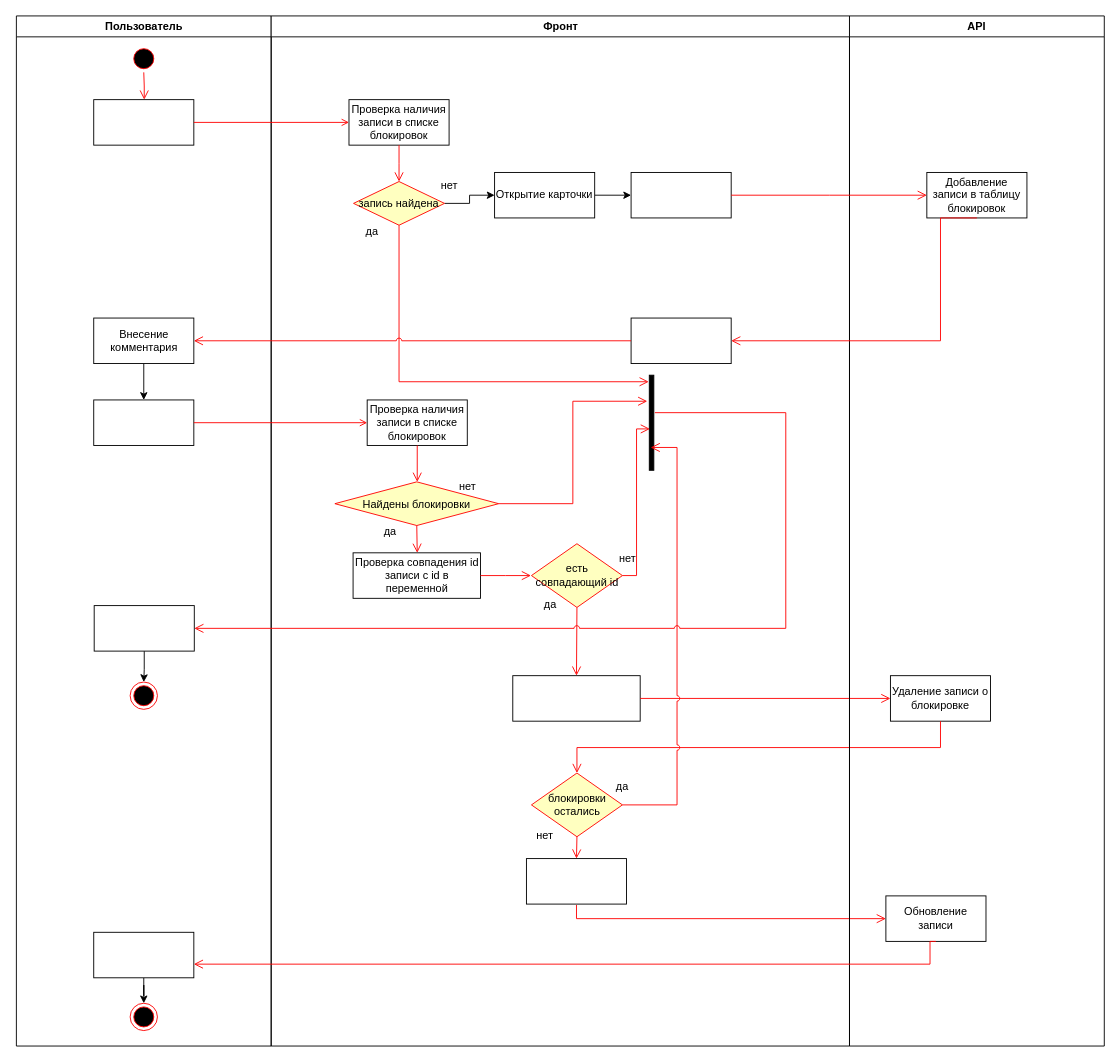
This 1120x1062 diagram has some shape labels left out. The centre of each missing label's shape, as x and y in pixels:
"Нажатие на кнопку добавления комментария" belongs at [143,122].
"Отправка запроса на блокировку записи" belongs at [680,195].
"Отправка запроса на изменение записи" belongs at [576,881].
"Отправка запроса на снятие блокировки" belongs at [576,698].
"Подтверждение" belongs at [143,422].
"Сохранение в переменной id записи блокировки" belongs at [680,340].
"Уведомление о блокировке" belongs at [143,628].
"Уведомление об успехе" belongs at [143,954].
